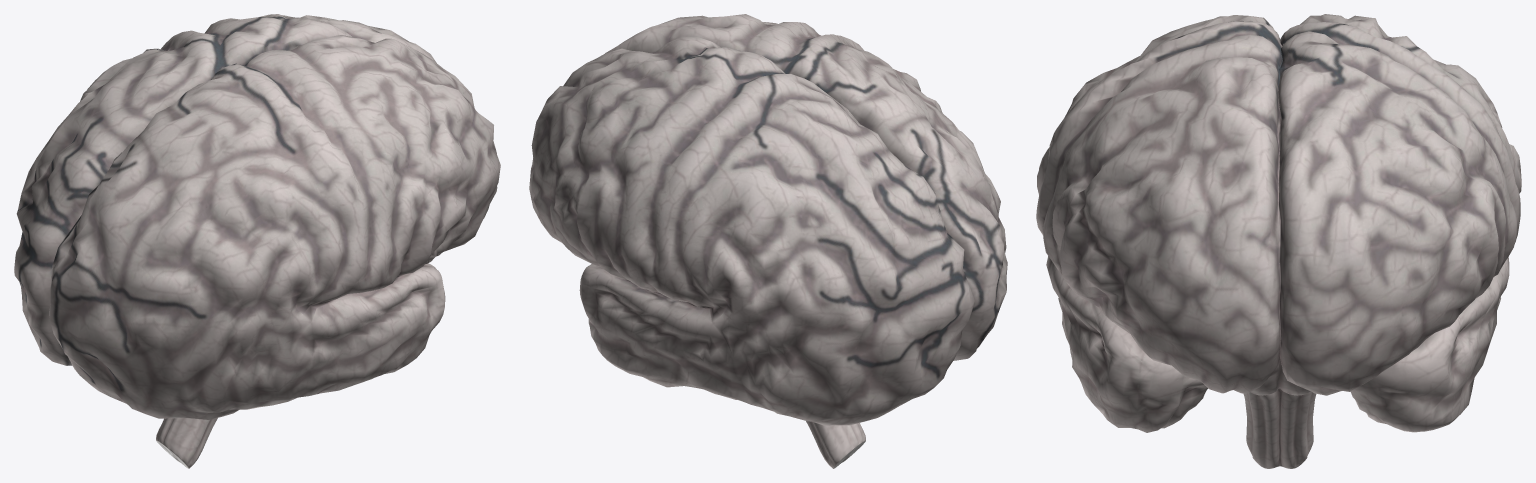
Rendered from human-brain-gray.glb.
The picture shows the model from 3 angles, left to right: view 1: azimuth 30°, elevation 25°; view 2: azimuth 150°, elevation 25°; view 3: azimuth 270°, elevation 25°; orthographic projection. The views are drawn at different scales.
Bounding box in the file's own units: 2 × 1.79 × 1.63.
Materials: 1 (1 with a texture image).
